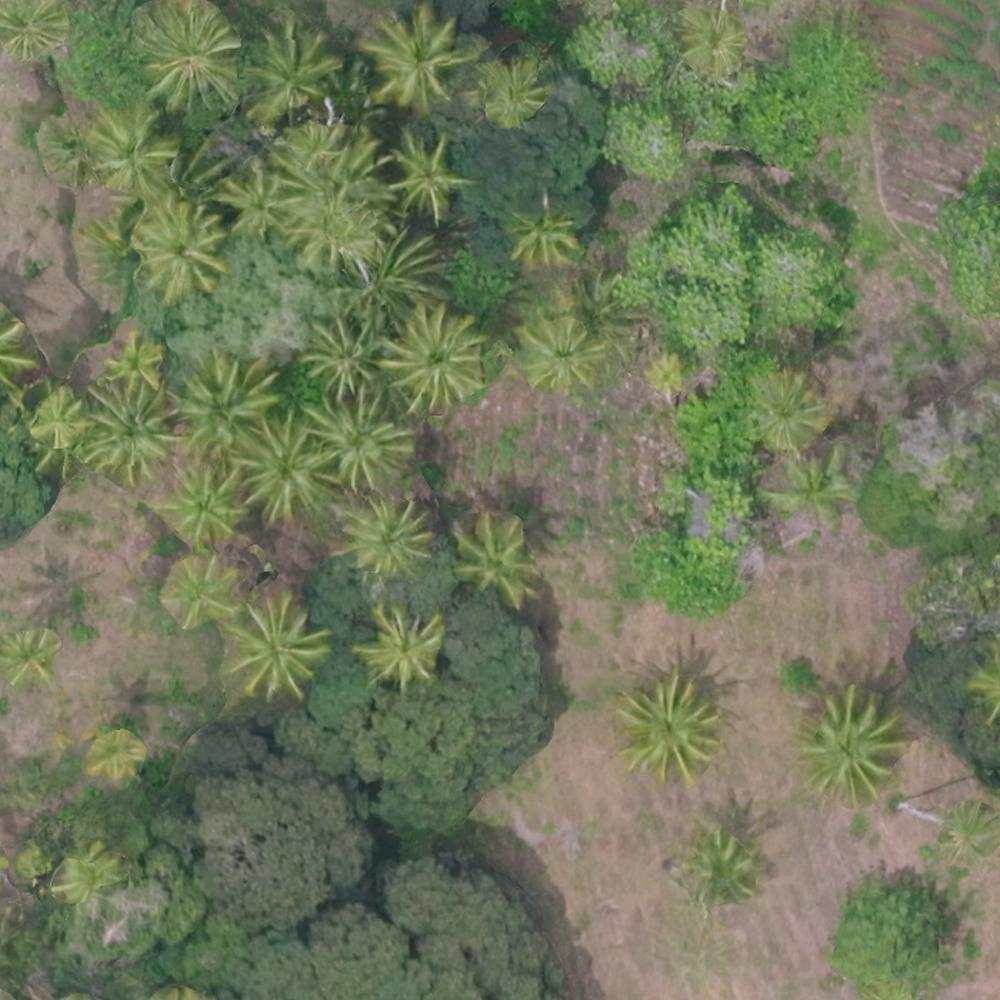Palm: (792, 691, 908, 807), (231, 411, 336, 513), (177, 354, 283, 455), (133, 8, 241, 104), (384, 302, 485, 404), (612, 681, 716, 780), (362, 9, 463, 108), (242, 22, 346, 118), (131, 199, 220, 304), (446, 511, 543, 607), (230, 598, 328, 693), (309, 386, 409, 477), (87, 383, 177, 483), (341, 485, 441, 573), (358, 607, 452, 688), (162, 460, 245, 550), (387, 135, 471, 218), (519, 309, 605, 389), (87, 116, 176, 193), (290, 181, 374, 262), (675, 828, 761, 906), (772, 451, 857, 527), (296, 316, 375, 393), (222, 160, 297, 240), (745, 373, 821, 450), (477, 56, 552, 132), (163, 554, 237, 627), (679, 8, 752, 73), (510, 206, 582, 271), (99, 332, 164, 388), (4, 631, 59, 692), (35, 390, 88, 449), (91, 732, 142, 781)
